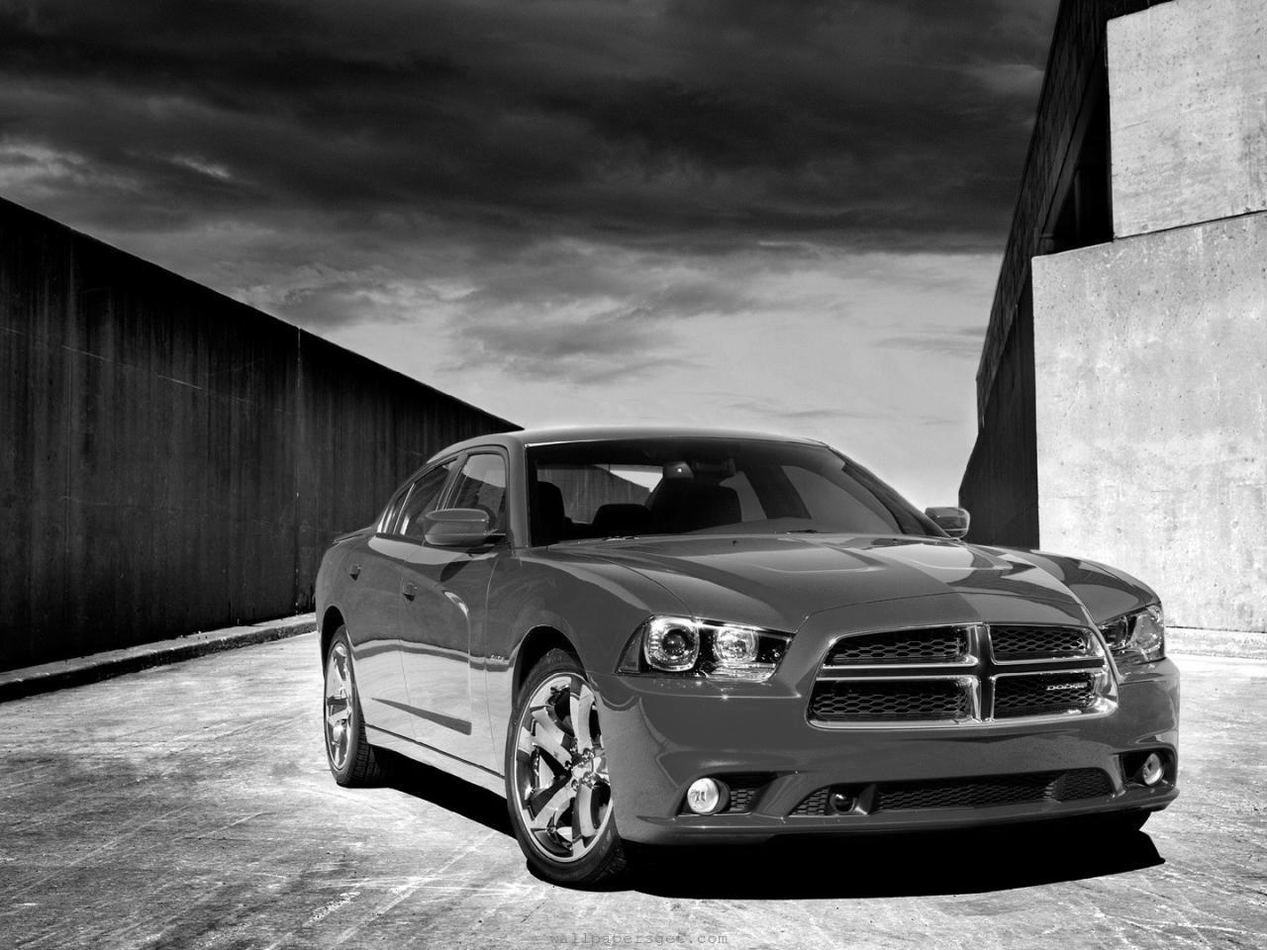car: (310, 419, 1189, 892)
